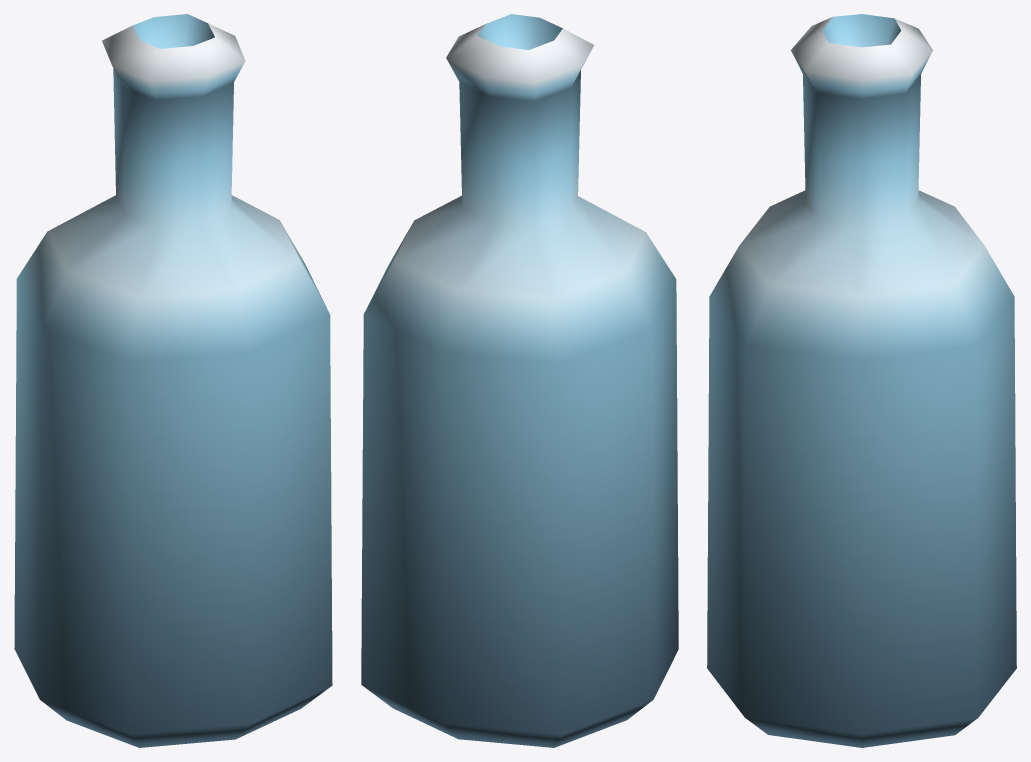
Rendered from bottle_glass_white_open.fbx.
The picture shows the model from 3 angles, left to right: view 1: azimuth 30°, elevation 25°; view 2: azimuth 150°, elevation 25°; view 3: azimuth 270°, elevation 25°; orthographic projection.
Parts seen in each view (by area): view 1: bottle_glass_white_open; view 2: bottle_glass_white_open; view 3: bottle_glass_white_open.
Boxes of the visible parts, box(x1,y1,x2,y2) form: bottle_glass_white_open: box(14, 14, 332, 747); bottle_glass_white_open: box(361, 14, 678, 747); bottle_glass_white_open: box(707, 14, 1016, 747).
Bounding box in the file's own units: 24.28 × 57.53 × 24.29.
